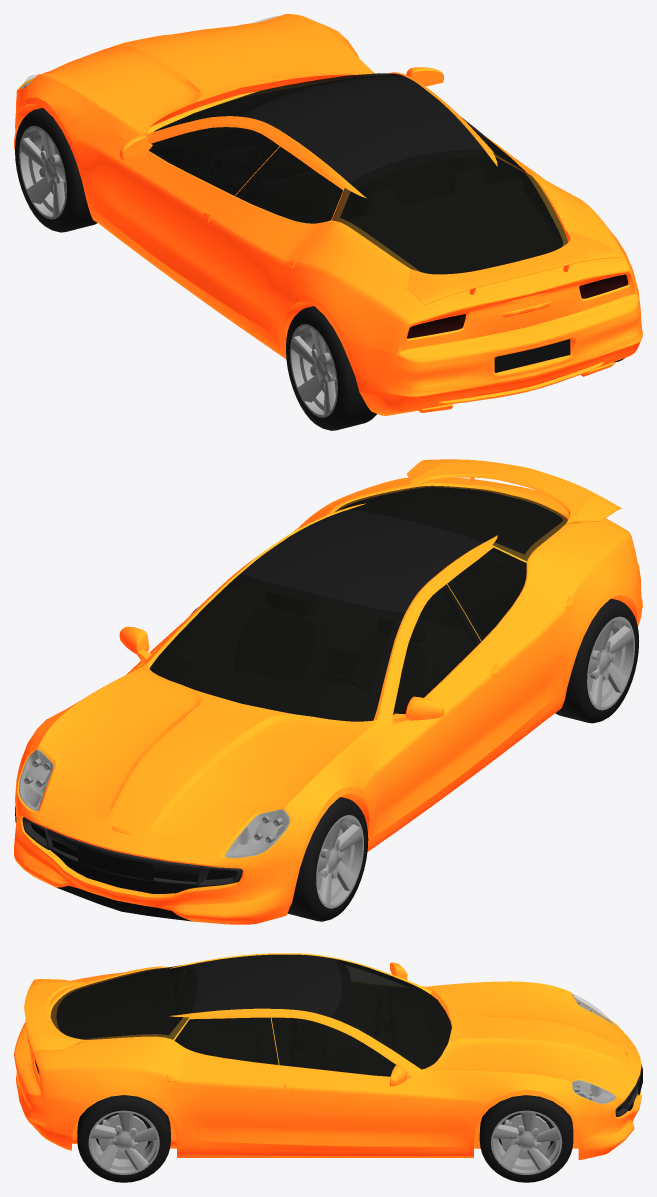
The model's file is Car.fbx.
3 renders of one model, top to bottom at view 1: azimuth 30°, elevation 25°; view 2: azimuth 150°, elevation 25°; view 3: azimuth 270°, elevation 25°, orthographic. The views are drawn at different scales.
Parts seen in each view (by area): view 1: MainBody, Windows, Interior, RoofWindow, Wheels, RearSpoilerUP, RearSpoilerDown, Tailights; view 2: MainBody, Interior, Windows, RoofWindow, Wheels, RearSpoilerUP, FrontGrill, Headlight, ChromeBumper, RearSpoilerDown; view 3: MainBody, Windows, Interior, Wheels, RoofWindow, RearSpoilerUP, Headlight, RearSpoilerDown, UnderBody.
Part boxes in pixels (<box>): MainBody: <box>14,14,642,415</box>; Windows: <box>149,73,567,274</box>; Interior: <box>149,74,570,372</box>; RoofWindow: <box>241,76,483,182</box>; Wheels: <box>15,108,624,430</box>; RearSpoilerUP: <box>406,231,621,304</box>; RearSpoilerDown: <box>405,230,619,319</box>; Tailights: <box>407,274,628,338</box>; MainBody: <box>14,478,642,924</box>; Interior: <box>78,487,562,880</box>; Windows: <box>149,485,567,721</box>; RoofWindow: <box>241,509,483,613</box>; Wheels: <box>15,598,639,921</box>; RearSpoilerUP: <box>406,459,621,523</box>; FrontGrill: <box>31,823,241,921</box>; Headlight: <box>18,749,290,858</box>; ChromeBumper: <box>22,817,242,886</box>; RearSpoilerDown: <box>405,477,618,528</box>; MainBody: <box>14,953,641,1159</box>; Windows: <box>50,958,451,1076</box>; Interior: <box>56,958,642,1095</box>; Wheels: <box>77,1095,573,1182</box>; RoofWindow: <box>192,954,342,1017</box>; RearSpoilerUP: <box>24,978,85,1051</box>; Headlight: <box>572,994,615,1103</box>; RearSpoilerDown: <box>25,983,86,1063</box>; UnderBody: <box>72,1117,578,1148</box>.
Size of what is drawn, in the model's own units: 2.24 by 1.38 by 5.09.
